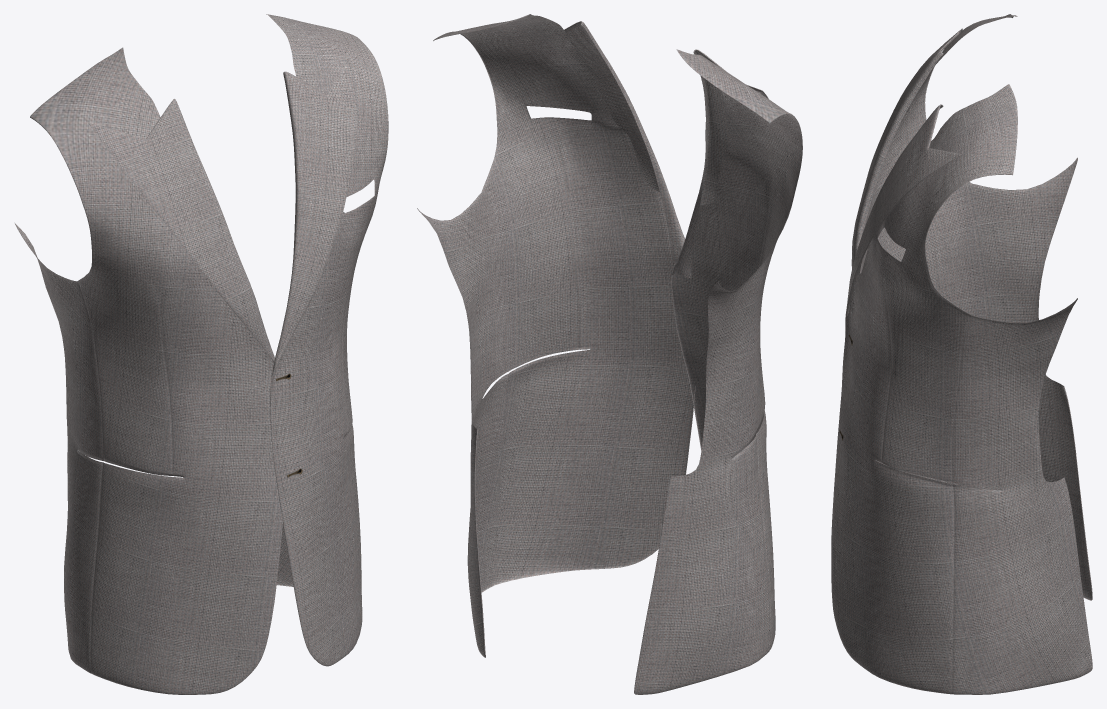
File: peak_double_button.glb
The picture shows the model from 3 angles, left to right: view 1: azimuth 30°, elevation 25°; view 2: azimuth 150°, elevation 25°; view 3: azimuth 270°, elevation 25°; orthographic projection. The views are drawn at different scales.
Visible parts, largest first — view 1: peak_double_button1; view 2: peak_double_button1; view 3: peak_double_button1.
Part boxes in pixels (x1,y1,x2,y2): peak_double_button1: (15,14,388,694); peak_double_button1: (417,14,802,694); peak_double_button1: (831,14,1092,694).
Size of the model in its own units: 0.0585 by 0.102 by 0.0411.
Materials: 2 (2 with a texture image).
